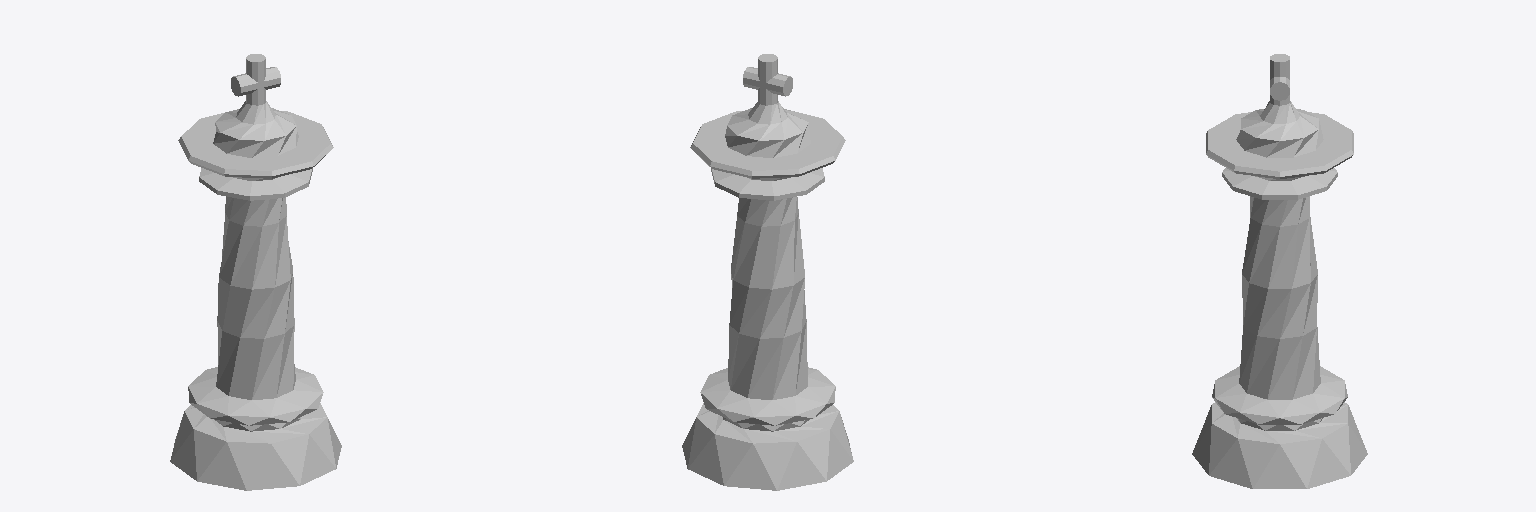
Rendered from King.obj.
3 views of the same model, side by side, from view 1: azimuth 30°, elevation 25°; view 2: azimuth 150°, elevation 25°; view 3: azimuth 270°, elevation 25° (orthographic).
Parts seen in each view (by area): view 1: Icosphere.001_Icosphere.007; view 2: Icosphere.001_Icosphere.007; view 3: Icosphere.001_Icosphere.007.
Part boxes in pixels (x1,y1,x2,y2): Icosphere.001_Icosphere.007: (170, 54, 341, 490); Icosphere.001_Icosphere.007: (682, 54, 853, 490); Icosphere.001_Icosphere.007: (1192, 54, 1367, 488).
Bounding box in the file's own units: 0.7989 × 2.09 × 0.84.